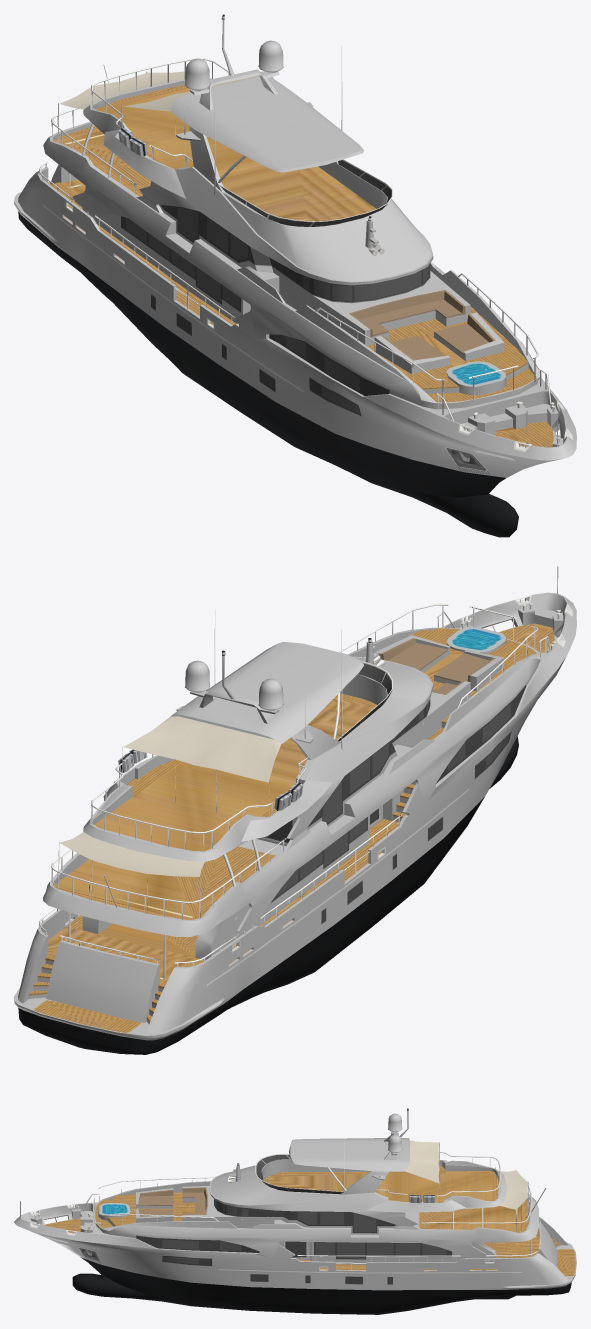
The model's file is yacht.gltf.
3 renders of one model, top to bottom at view 1: azimuth 30°, elevation 25°; view 2: azimuth 150°, elevation 25°; view 3: azimuth 270°, elevation 25°, orthographic. The views are drawn at different scales.
Visible parts, largest first — view 1: yacht; view 2: yacht; view 3: yacht.
Part boxes in pixels (left/top/right/bottom): yacht: left=14, top=14, right=576, bottom=537; yacht: left=14, top=566, right=576, bottom=1054; yacht: left=14, top=1108, right=576, bottom=1314.
Size of the model in its own units: 6.11 by 11.64 by 30.
Materials: 1 (1 with a texture image).
